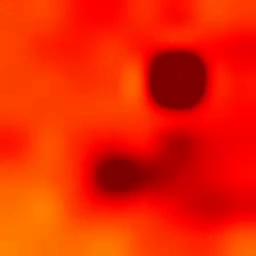person: (98, 143, 219, 205)
